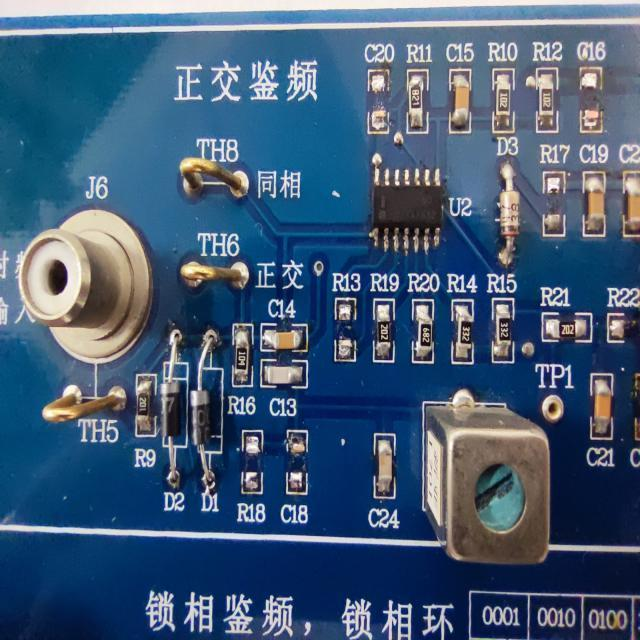Missing component: (361, 36, 398, 142), (234, 426, 271, 527), (279, 424, 314, 527), (574, 35, 608, 138), (538, 138, 572, 240), (331, 270, 364, 368), (604, 283, 640, 350)
